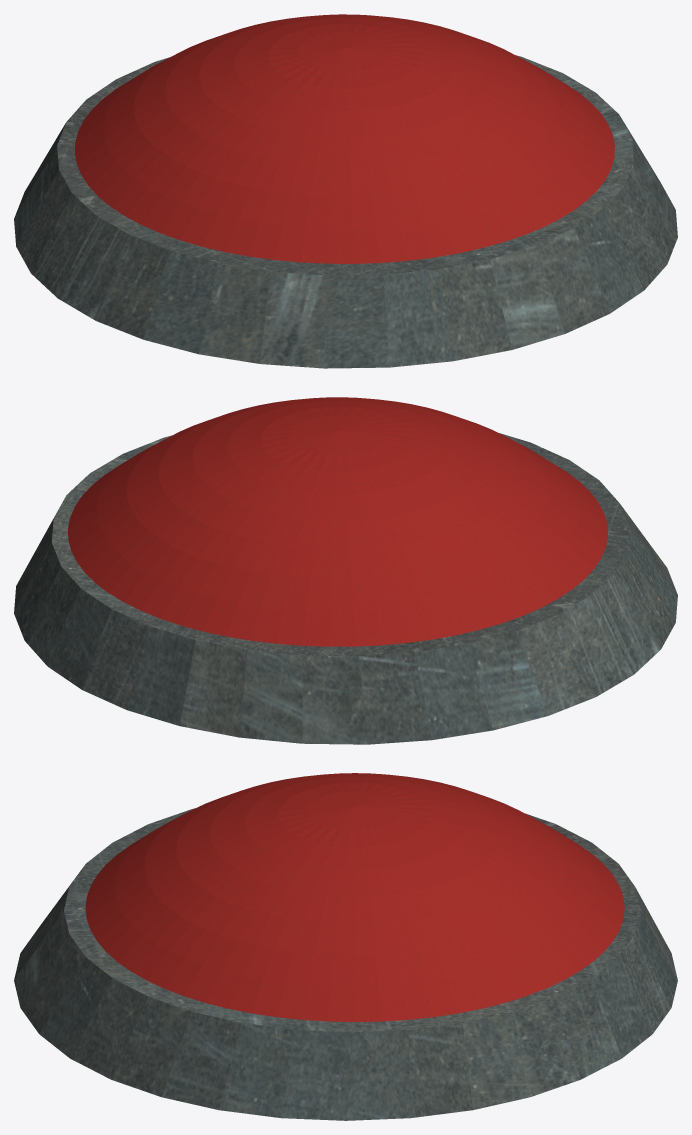
File: buttonTyler.obj
3 renders of one model, top to bottom at view 1: azimuth 30°, elevation 25°; view 2: azimuth 150°, elevation 25°; view 3: azimuth 270°, elevation 25°, orthographic.
Visible parts, largest first — view 1: Sphere, Cylinder; view 2: Sphere, Cylinder; view 3: Sphere, Cylinder.
Part boxes in pixels (left/top/right/bottom): Sphere: left=75, top=14, right=614, bottom=263; Cylinder: left=14, top=55, right=677, bottom=368; Sphere: left=68, top=397, right=607, bottom=646; Cylinder: left=14, top=433, right=677, bottom=744; Sphere: left=85, top=773, right=624, bottom=1021; Cylinder: left=14, top=808, right=677, bottom=1120.
Bounding box in the file's own units: 1.77 × 0.5162 × 1.77.
